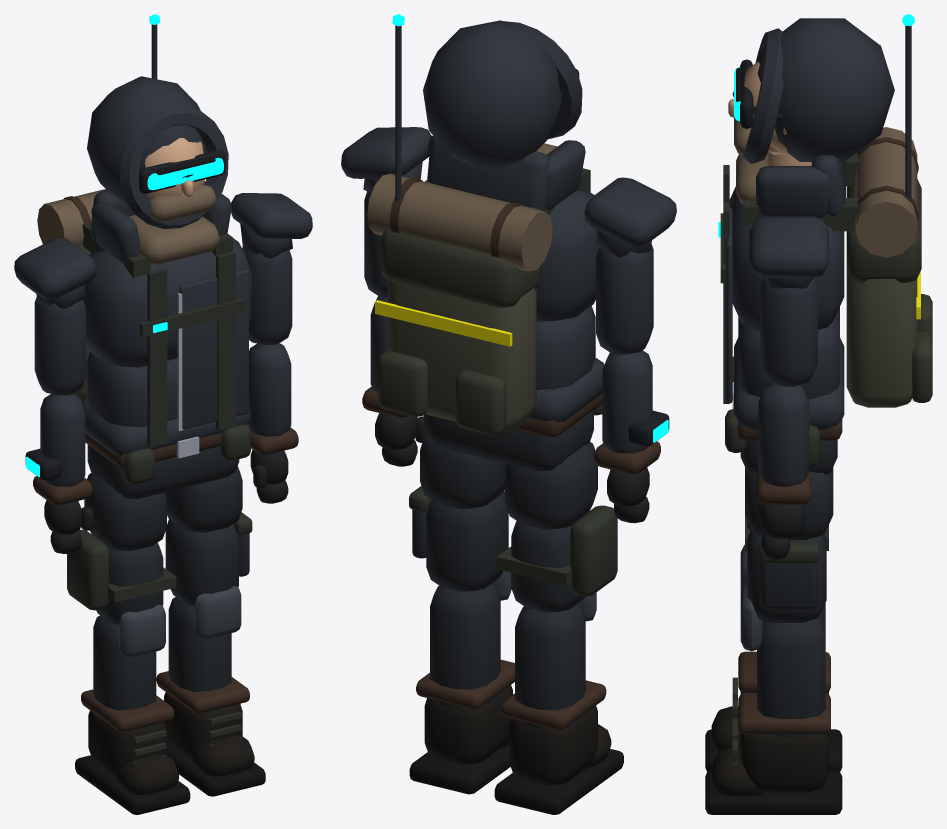
The model's file is npc.glb.
3 views of the same model, side by side, from view 1: azimuth 30°, elevation 25°; view 2: azimuth 150°, elevation 25°; view 3: azimuth 270°, elevation 25° (orthographic). The views are drawn at different scales.
Visible parts, largest first — view 1: Body, LegLMesh, LegRMesh, HeadMesh, ArmLMesh, ArmRMesh; view 2: Body, LegLMesh, LegRMesh, ArmLMesh, HeadMesh, ArmRMesh; view 3: Body, LegRMesh, HeadMesh, ArmRMesh, LegLMesh.
Part boxes in pixels (<box>): Body: <box>37,14,251,499</box>; LegLMesh: <box>67,473,190,814</box>; LegRMesh: <box>156,466,265,796</box>; HeadMesh: <box>87,76,228,228</box>; ArmLMesh: <box>14,237,96,553</box>; ArmRMesh: <box>231,193,312,503</box>; Body: <box>367,14,604,471</box>; LegLMesh: <box>494,442,623,814</box>; LegRMesh: <box>409,434,514,794</box>; ArmLMesh: <box>584,177,676,523</box>; HeadMesh: <box>423,20,582,171</box>; ArmRMesh: <box>341,127,431,466</box>; Body: <box>718,14,932,474</box>; LegRMesh: <box>705,469,842,814</box>; HeadMesh: <box>728,18,894,165</box>; ArmRMesh: <box>749,216,828,559</box>; LegLMesh: <box>705,467,842,771</box>.
Bounding box in the file's own units: 0.7974 × 1.98 × 0.515.
